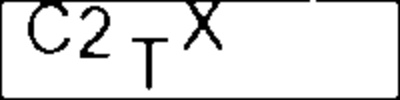2: (76, 3, 117, 62)
C: (28, 1, 73, 58)
T: (126, 36, 172, 93)
X: (184, 1, 229, 54)
